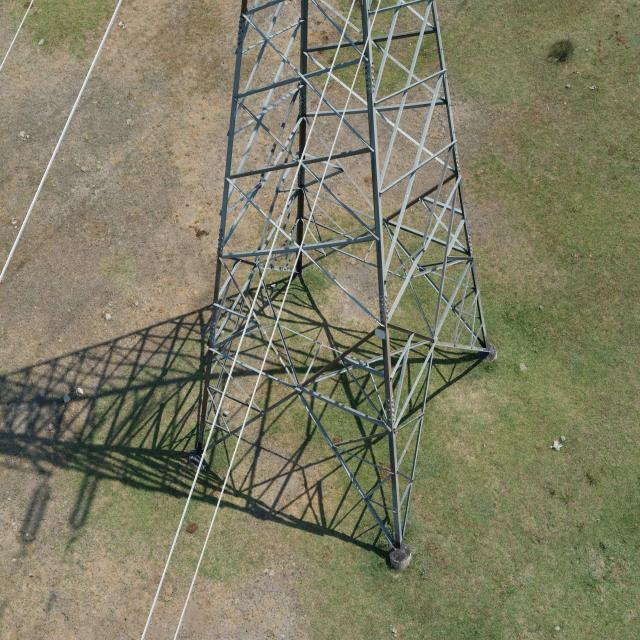direk: (190, 0, 490, 557)
